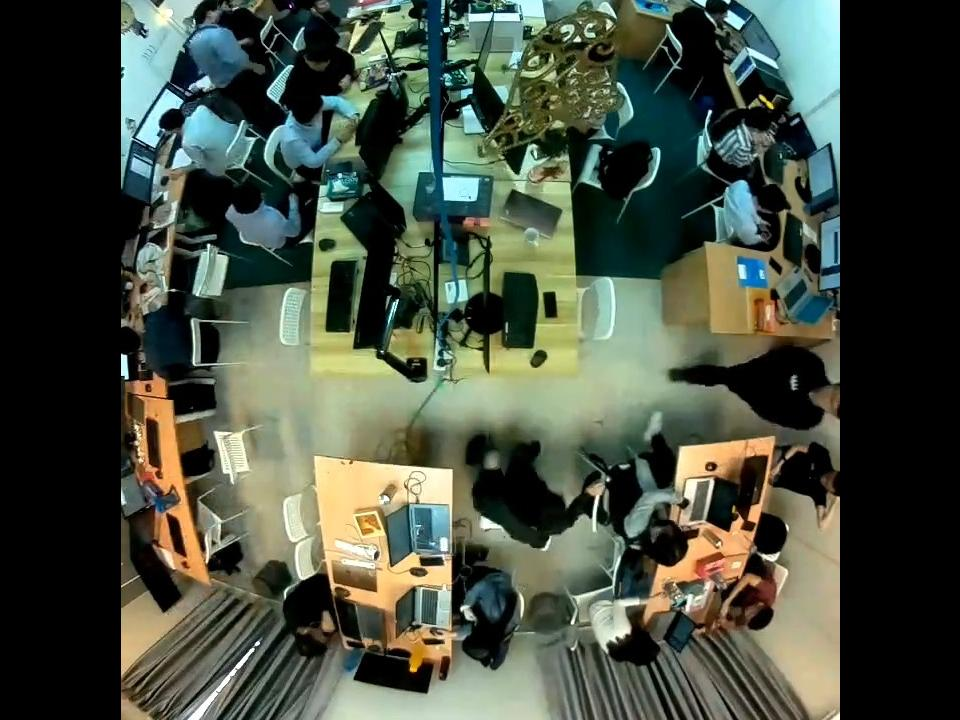name-tag: (788, 373, 798, 391)
